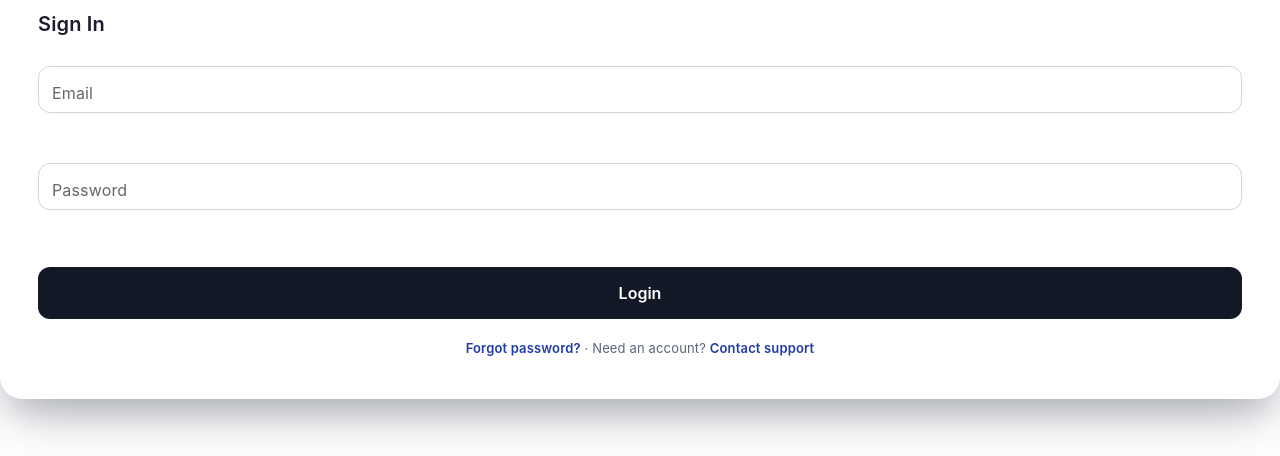
Test: SignInCard › validates email format and min password length
In the field labelled "Email": {"x": 640, "y": 90} [38,66,1242,113], type "invalid"
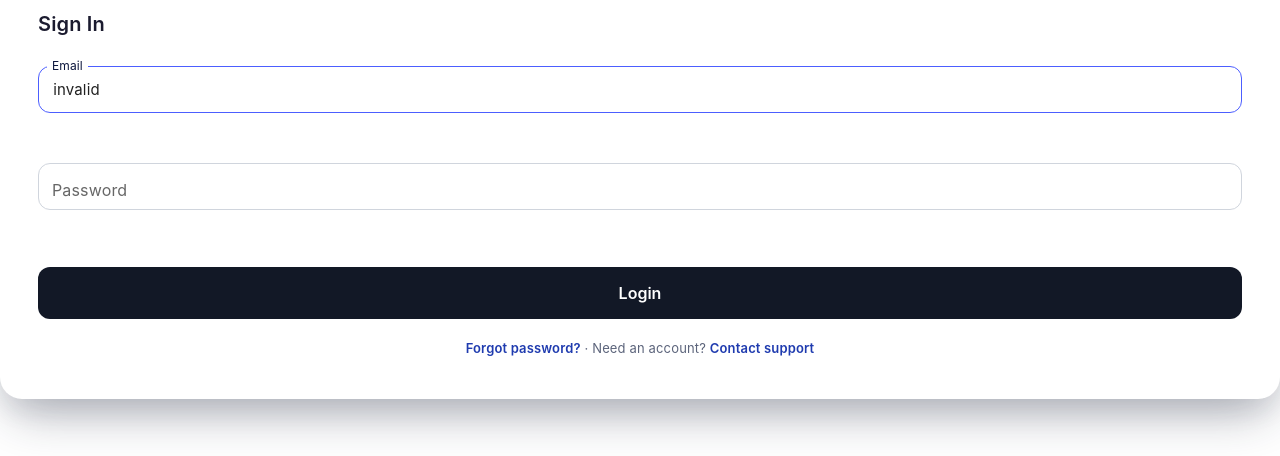
In the password field labelled "Password": {"x": 640, "y": 186} [38,163,1242,210], type "short"
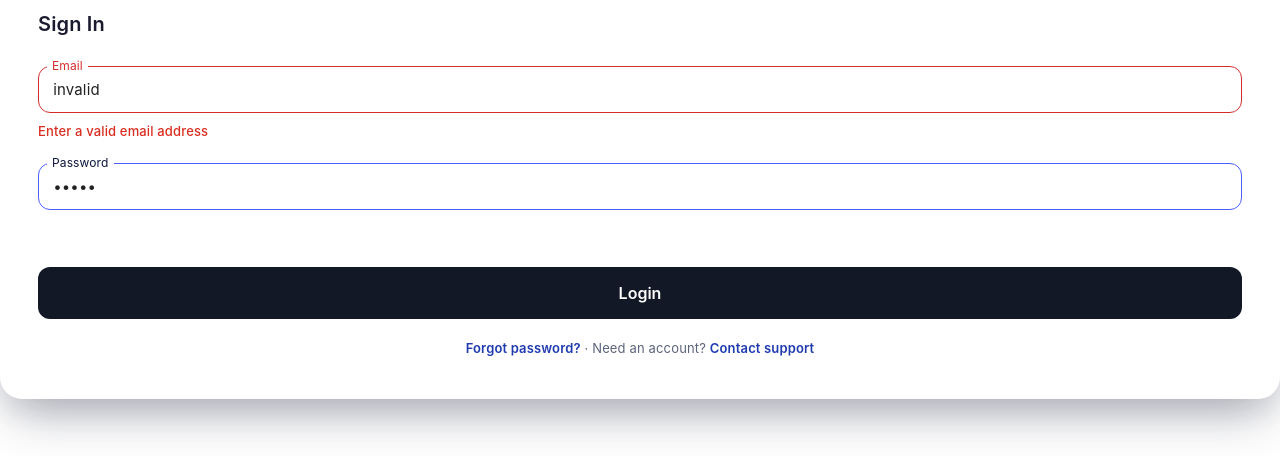
Click the button "Login": {"x": 640, "y": 294} [38,268,1242,320]
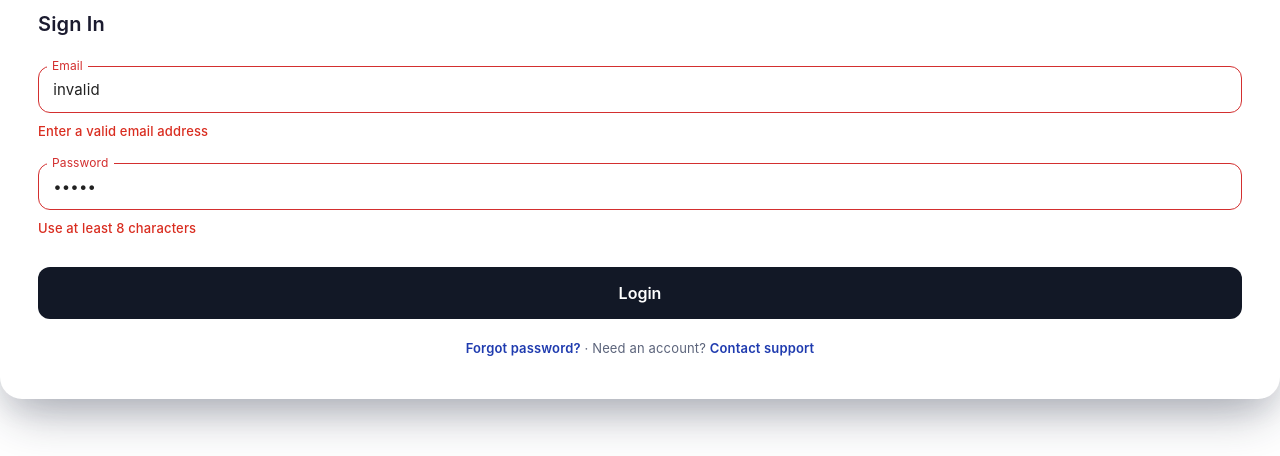
expect the text "Enter a valid email address" is shown: met, box [38,123,208,139]
expect the text "Use at least 8 characters" is shown: met, box [38,220,196,236]
